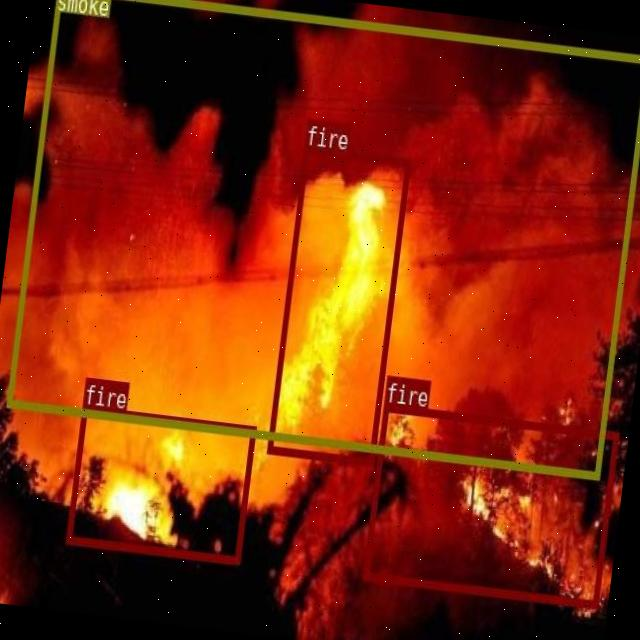fire: (360, 402, 618, 608), (266, 146, 409, 464), (65, 404, 256, 562)
smoke: (5, 0, 640, 478)
